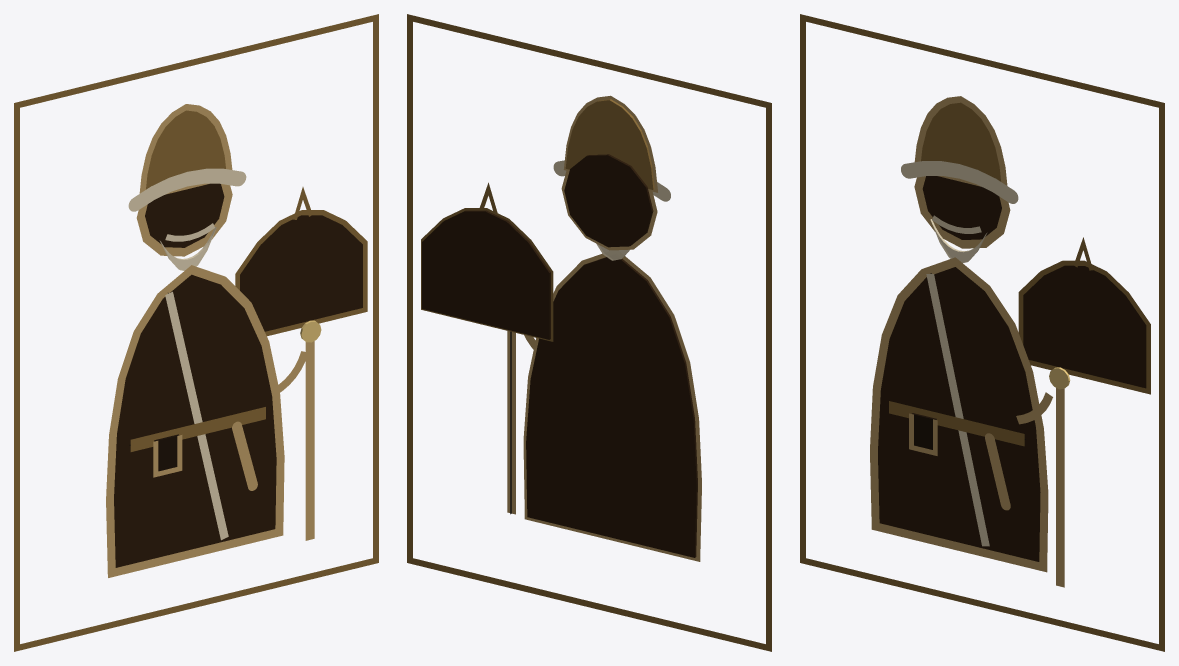
Rendered from npc-bek-roda.glb.
3 renders of one model, left to right at view 1: azimuth 30°, elevation 25°; view 2: azimuth 150°, elevation 25°; view 3: azimuth 330°, elevation 25°, orthographic.
Visible parts, largest first — view 1: npc-bek-roda; view 2: npc-bek-roda; view 3: npc-bek-roda.
Boxes of the visible parts, bbox=[...] form: npc-bek-roda: bbox=[14, 14, 378, 651]; npc-bek-roda: bbox=[407, 14, 771, 651]; npc-bek-roda: bbox=[800, 14, 1164, 651].
Bounding box in the file's own units: 1.14 × 1.64 × 0.1129.
